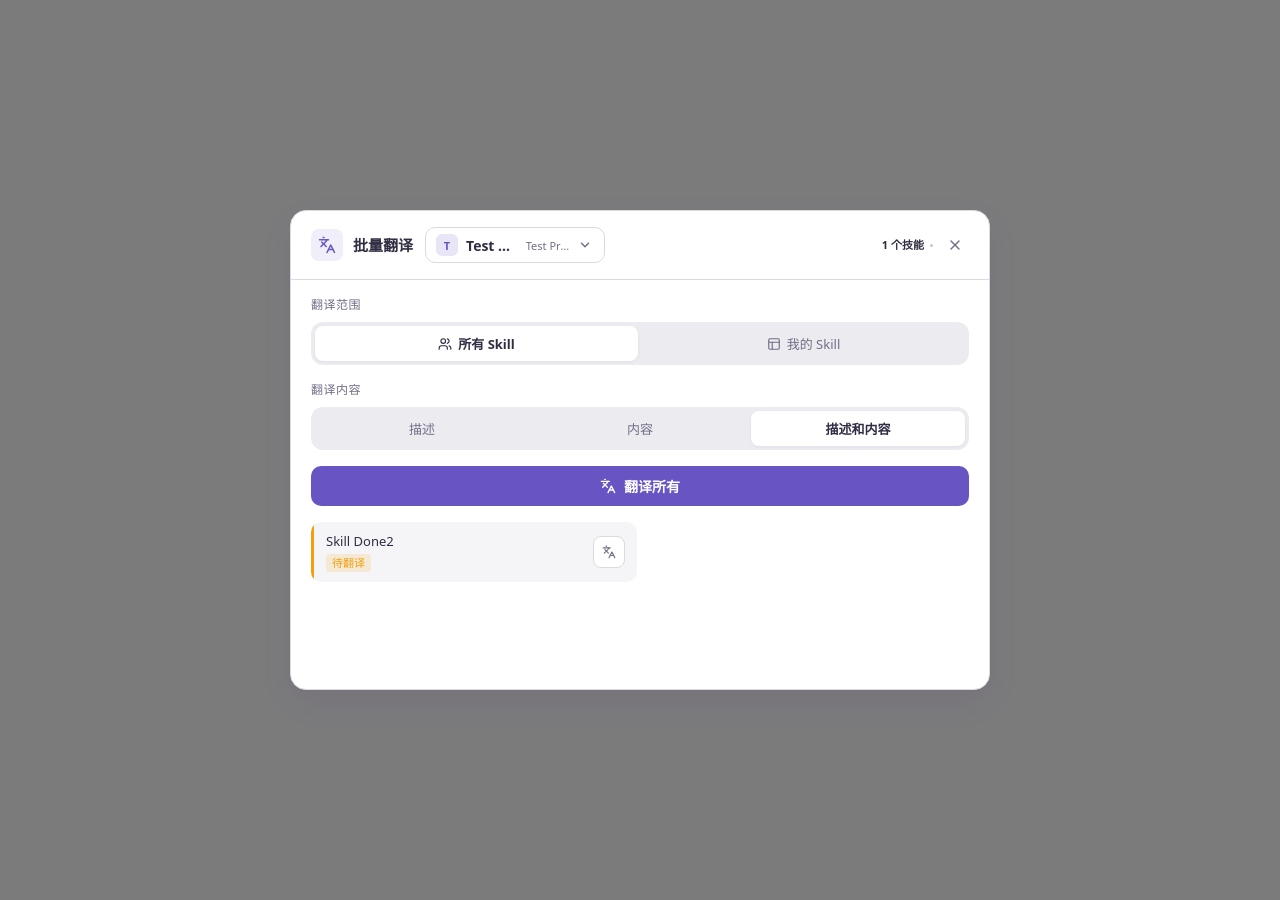
Test: Translation status detection › already translated (content) shows 已翻译 and button enabled
Click the button with class "segment-btn" showing "内容".
click(640, 428)  # box [533,411,747,446]
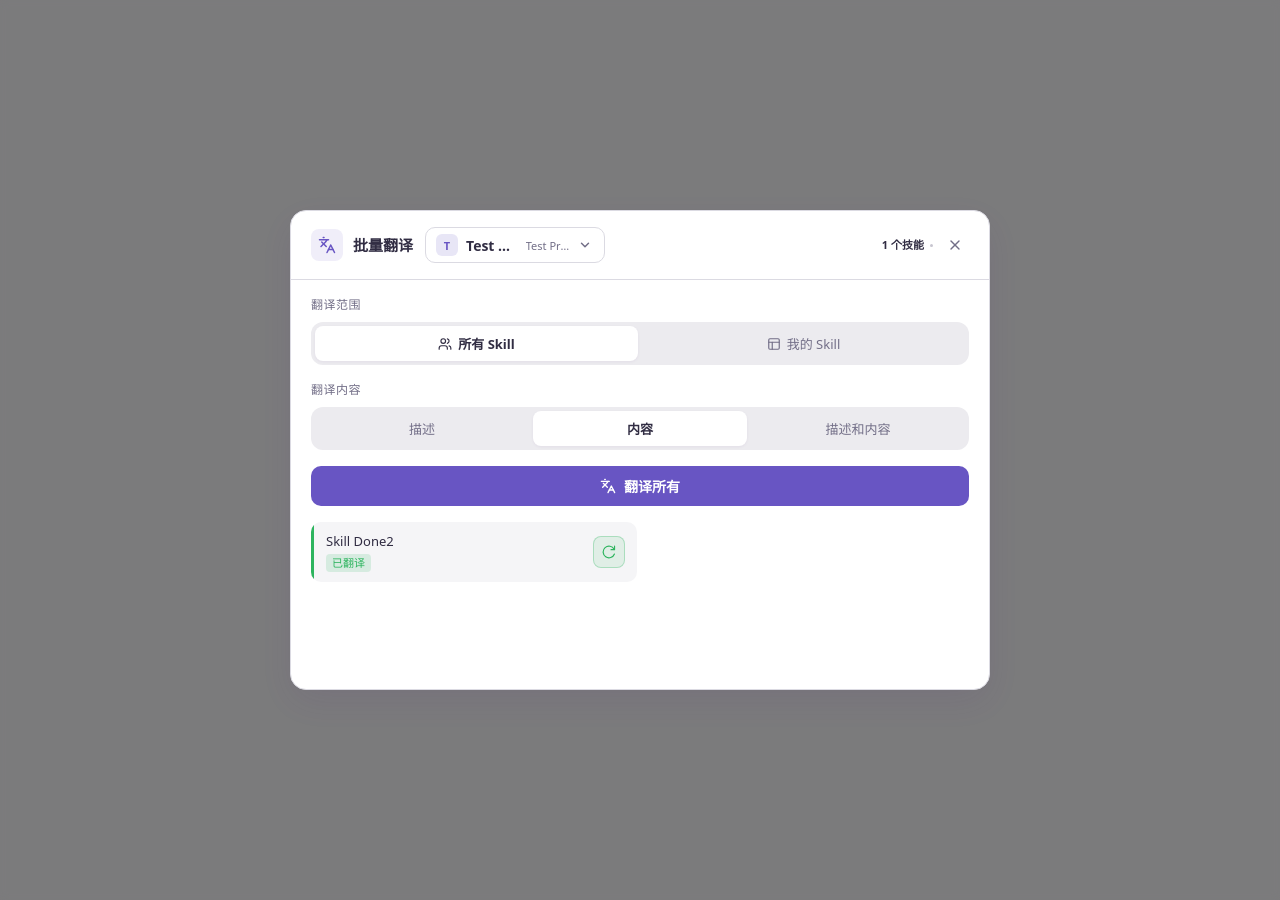
Expected: the button with class "translate-btn" is enabled, [593,536,625,568]
Now the text with class "skill-status-badge" reads "已翻译", box [332,554,365,570]
